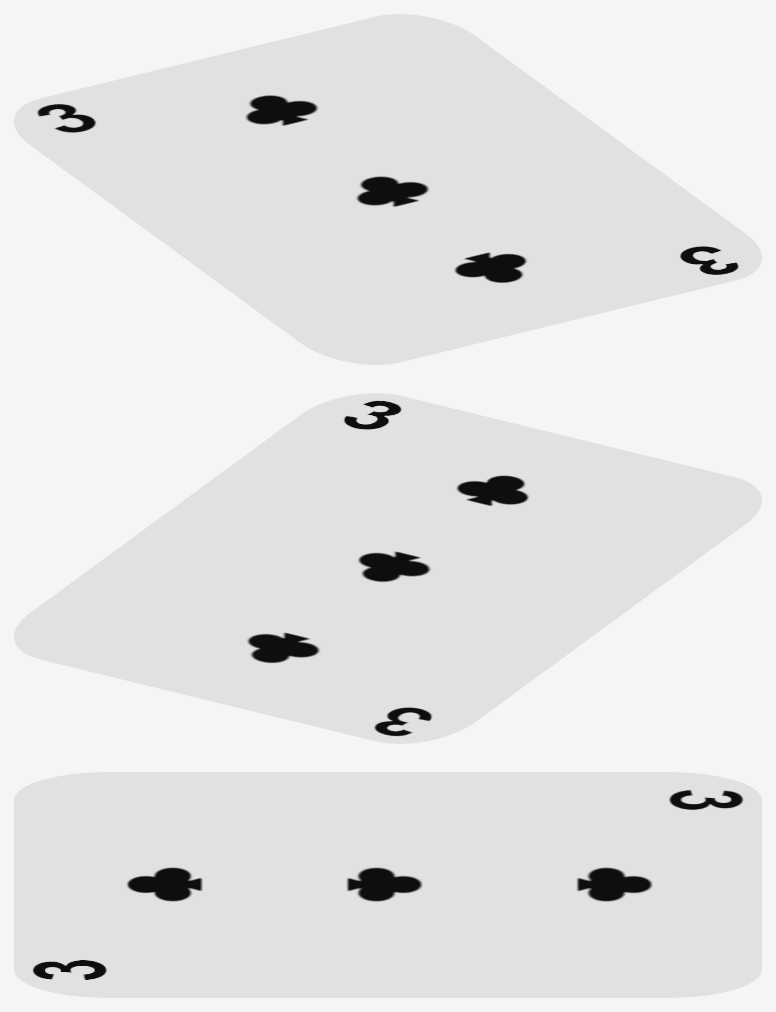
Rendered from Clubs3.fbx.
3 views of the same model, one above another, from view 1: azimuth 30°, elevation 25°; view 2: azimuth 150°, elevation 25°; view 3: azimuth 270°, elevation 25° (orthographic). The views are drawn at different scales.
Visible parts, largest first — view 1: Plane.002; view 2: Plane.002; view 3: Plane.002.
Part boxes in pixels (bbox=[...]): Plane.002: bbox=[14, 14, 761, 364]; Plane.002: bbox=[14, 393, 761, 743]; Plane.002: bbox=[14, 772, 761, 997].
Size of the model in its own units: 500 by 0 by 700.
1 material, 1 textured.
